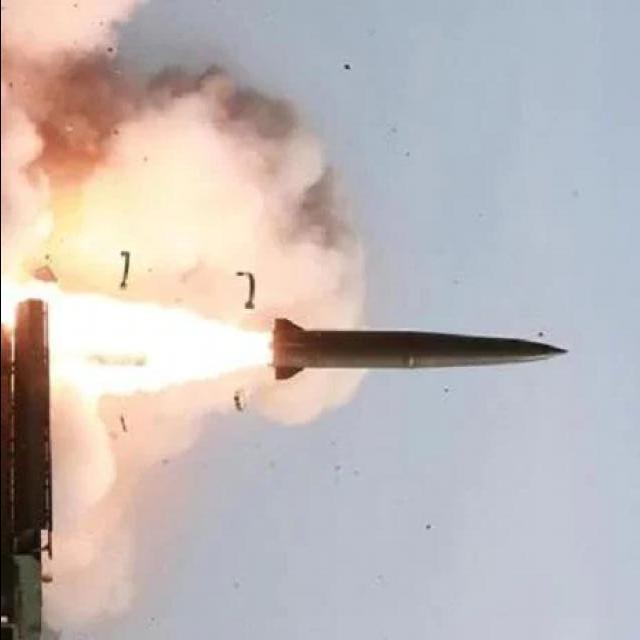missile: (255, 309, 566, 391)
